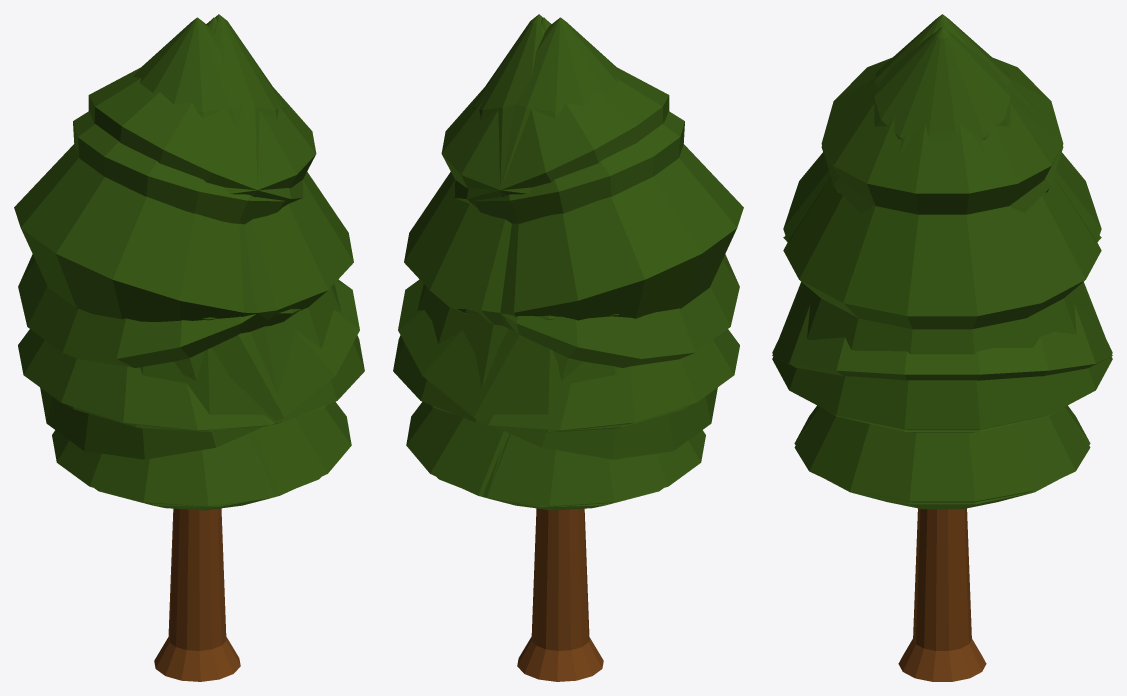
The model's file is Temp_Tree.fbx.
3 views of the same model, side by side, from view 1: azimuth 30°, elevation 25°; view 2: azimuth 150°, elevation 25°; view 3: azimuth 270°, elevation 25° (orthographic).
Visible parts, largest first — view 1: Tree_B, Tree_A, Tree_C; view 2: Tree_B, Tree_A, Tree_C; view 3: Tree_A, Tree_C, Tree_B.
Part boxes in pixels (<box>): Tree_B: <box>14,14,326,681</box>; Tree_A: <box>68,17,364,681</box>; Tree_C: <box>18,17,359,678</box>; Tree_B: <box>431,14,743,681</box>; Tree_A: <box>393,17,689,681</box>; Tree_C: <box>398,17,739,664</box>; Tree_A: <box>772,14,1112,681</box>; Tree_C: <box>772,27,1112,681</box>; Tree_B: <box>772,26,1112,680</box>.
Size of the model in its own units: 243 by 496 by 236.
